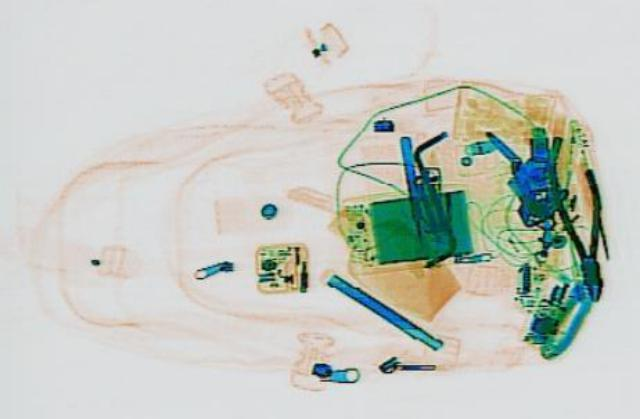Pliers: (538, 132, 618, 299)
